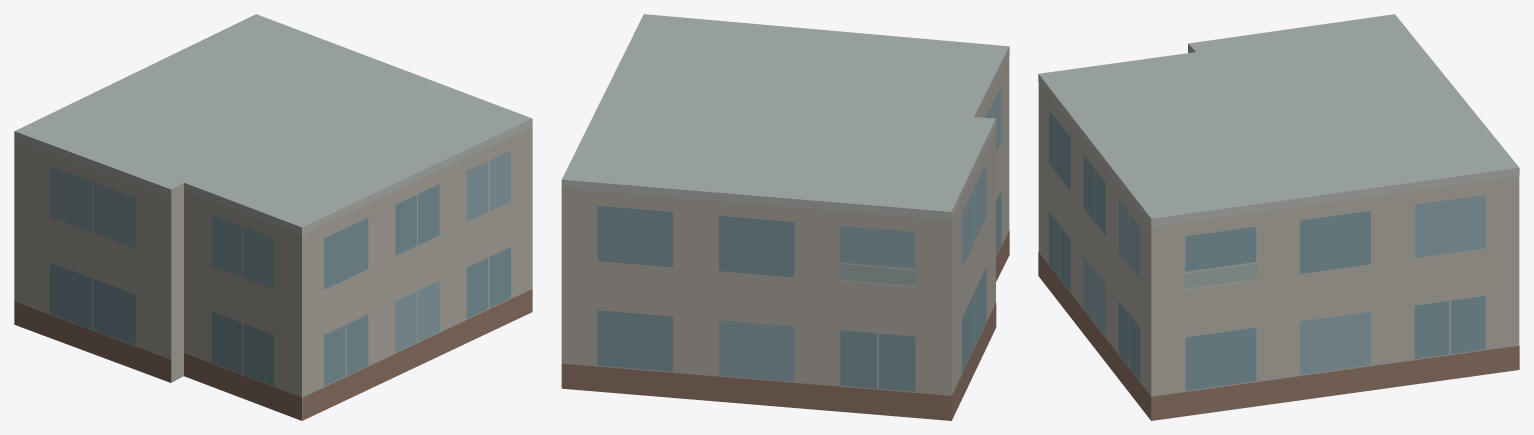
File: survey-upis-32604572.glb
3 renders of one model, left to right at view 1: azimuth 30°, elevation 25°; view 2: azimuth 150°, elevation 25°; view 3: azimuth 270°, elevation 25°, orthographic. The views are drawn at different scales.
Visible parts, largest first — view 1: survey-upis-32604572.tmp; view 2: survey-upis-32604572.tmp; view 3: survey-upis-32604572.tmp.
Boxes of the visible parts, <box> form: survey-upis-32604572.tmp: <box>14,14,532,420</box>; survey-upis-32604572.tmp: <box>561,14,1009,420</box>; survey-upis-32604572.tmp: <box>1038,14,1519,420</box>.
Size of the model in its own units: 13.26 by 6.1 by 13.17.
